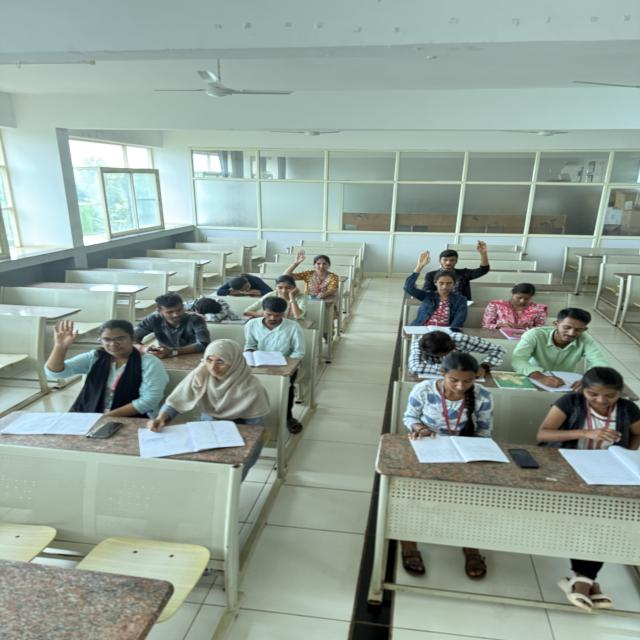Hand Rising: (42, 308, 173, 418), (424, 232, 495, 304), (400, 248, 461, 319), (279, 247, 346, 297)
Reading: (385, 354, 523, 464), (538, 364, 640, 451), (235, 294, 306, 368)
Sleeping: (398, 325, 500, 377), (209, 267, 278, 305), (177, 291, 241, 327)
Using Phone: (122, 295, 208, 352), (484, 284, 556, 333)
Writing: (142, 334, 266, 450), (516, 304, 608, 386)
